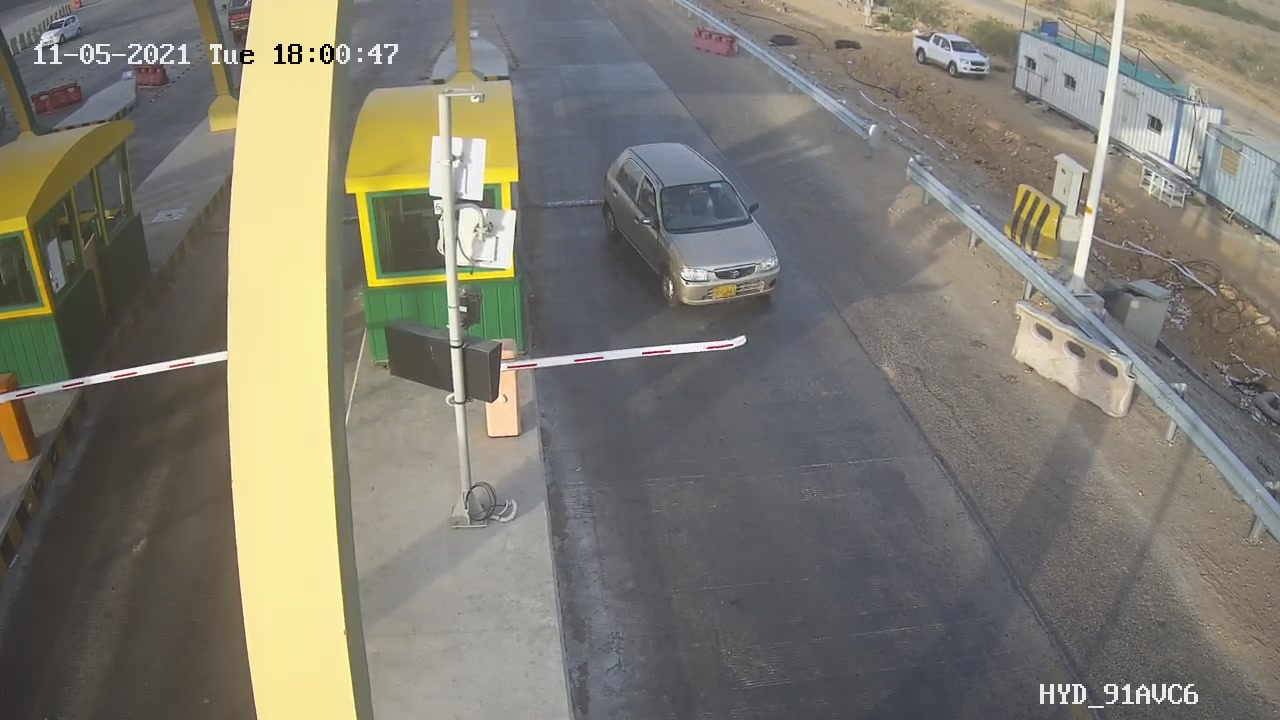F1: (592, 139, 788, 314)
